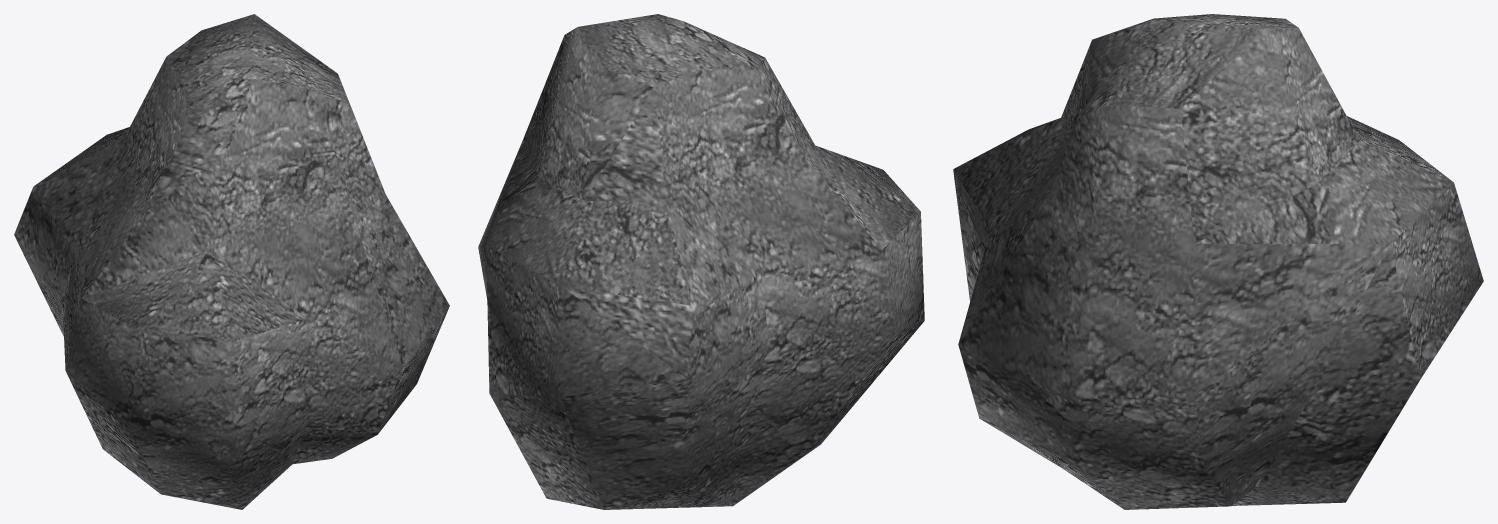
The model's file is decor_rock.FBX.
The picture shows the model from 3 angles, left to right: view 1: azimuth 30°, elevation 25°; view 2: azimuth 150°, elevation 25°; view 3: azimuth 270°, elevation 25°; orthographic projection. The views are drawn at different scales.
Visible parts, largest first — view 1: stone03; view 2: stone03; view 3: stone03.
Boxes of the visible parts, x1=… form: stone03: x1=14, y1=14, x2=449, y2=509; stone03: x1=478, y1=14, x2=924, y2=509; stone03: x1=953, y1=14, x2=1483, y2=509.
Size of the model in its own units: 25.59 by 29.73 by 27.7.
